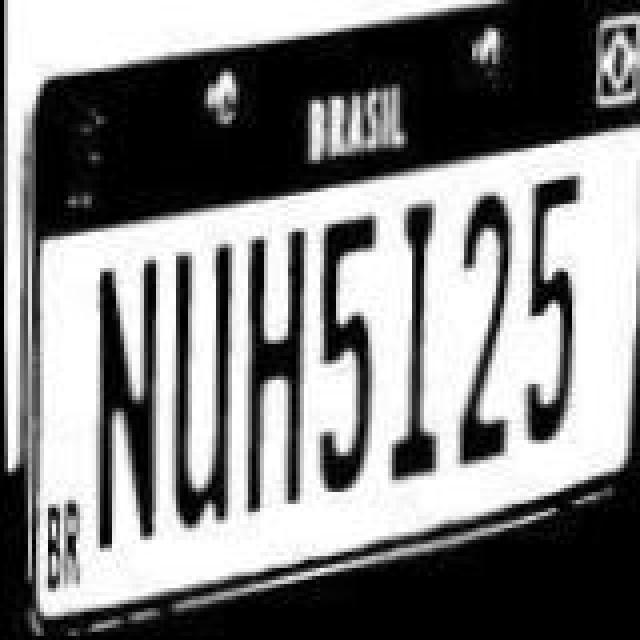2: (444, 170, 524, 454)
5: (310, 194, 386, 478), (520, 160, 592, 428)
H: (236, 212, 316, 500)
I: (380, 182, 452, 470)
N: (86, 244, 166, 552)
U: (158, 226, 238, 526)
